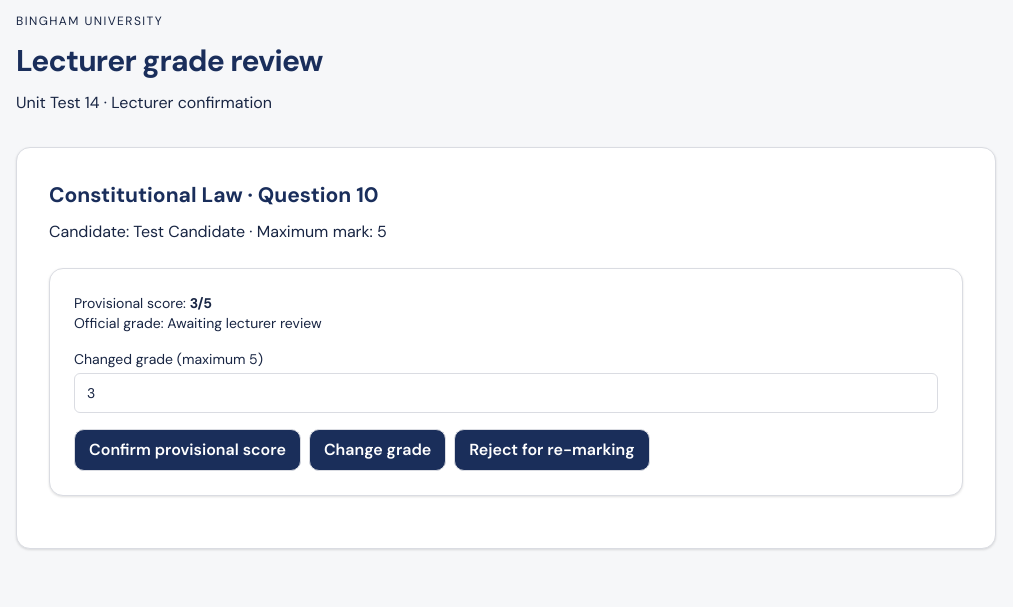
Scenario: Unit Test 14 — H09: provisional scores require lecturer confirmation › shows no official grade before review and assigns one only after confirmation
The width and height of the screenshot is (1013, 607).
Expected: the text with test id "provisional-score" reads "3/5", [190,294,212,312]
Expected: the text with test id "official-grade" reads "Official grade: Awaiting lecturer review", [74,314,322,332]
Click the button "Confirm provisional score". click: (187, 450)
box: [74,428,301,470]
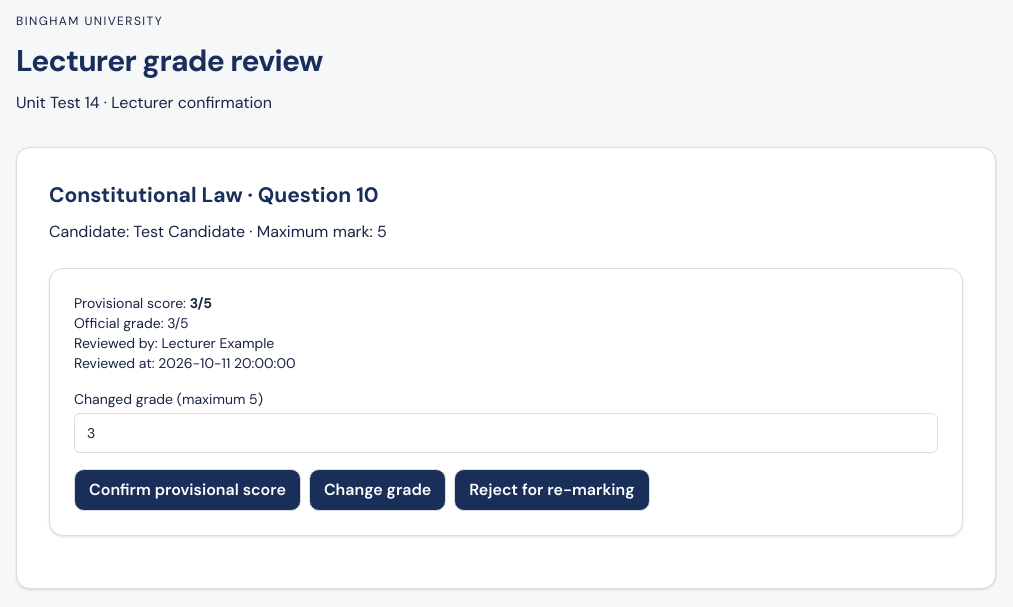
Expected: the text with test id "official-grade" reads "Official grade: 3/5", [74,314,188,332]
